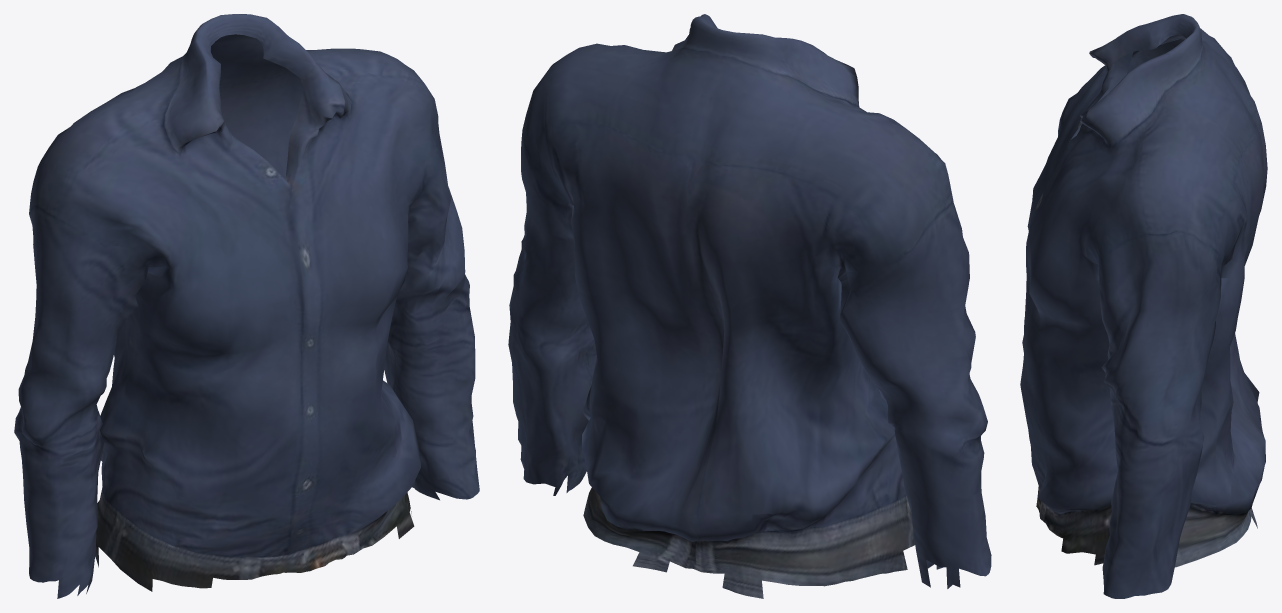
The model's file is top_formal_shirt.gltf.
The picture shows the model from 3 angles, left to right: view 1: azimuth 30°, elevation 25°; view 2: azimuth 150°, elevation 25°; view 3: azimuth 270°, elevation 25°; orthographic projection. The views are drawn at different scales.
Visible parts, largest first — view 1: top_formal_shirt; view 2: top_formal_shirt; view 3: top_formal_shirt.
Part boxes in pixels (x1,y1,x2,y2): top_formal_shirt: (14, 14, 479, 598); top_formal_shirt: (508, 14, 991, 598); top_formal_shirt: (1020, 14, 1267, 598).
Size of the model in its own units: 0.5149 by 0.5518 by 0.2585.
1 material, 1 textured.
